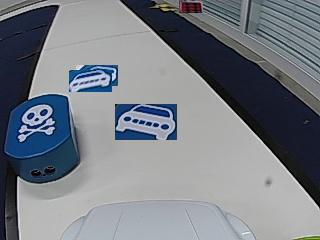danger: (18, 105, 55, 142)
